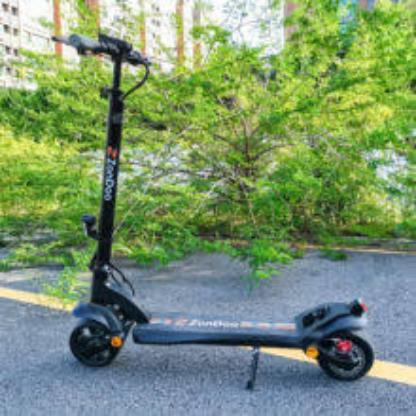bike: (50, 32, 376, 395)
